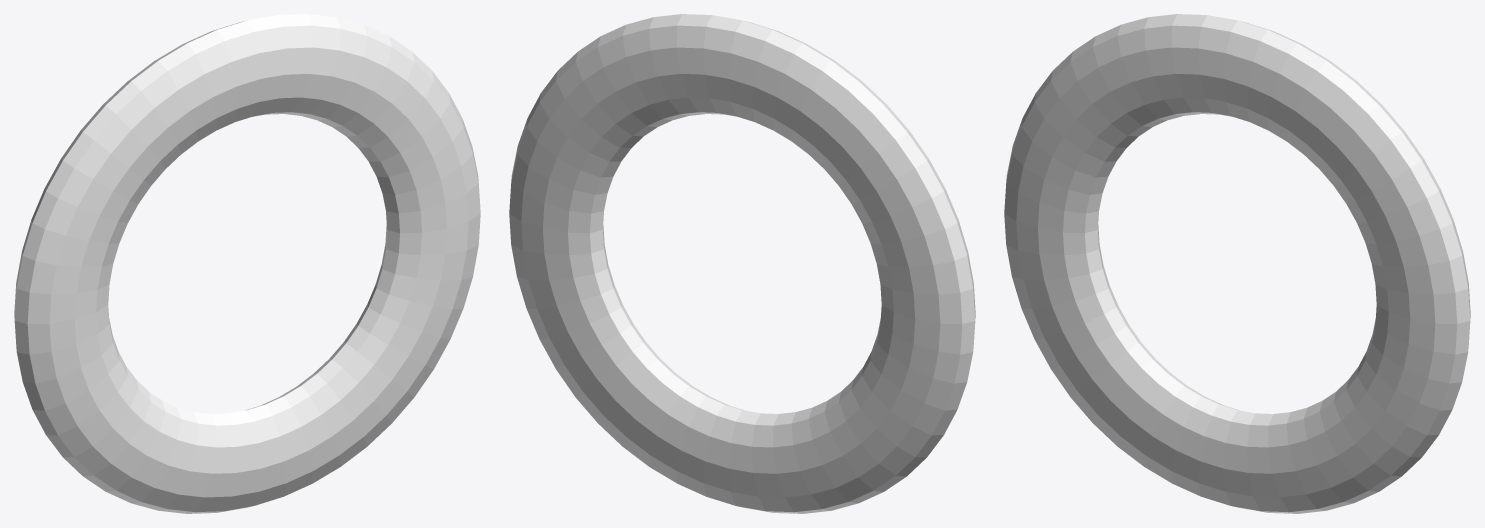
The picture shows the model from 3 angles, left to right: view 1: azimuth 30°, elevation 25°; view 2: azimuth 150°, elevation 25°; view 3: azimuth 330°, elevation 25°; orthographic projection.
Parts seen in each view (by area): view 1: トーラス; view 2: トーラス; view 3: トーラス.
Boxes of the visible parts, bbox=[...] form: トーラス: bbox=[14, 14, 480, 513]; トーラス: bbox=[509, 14, 975, 513]; トーラス: bbox=[1004, 14, 1470, 513].
Bounding box in the file's own units: 1 × 1 × 0.1.
1 material, 1 textured.
